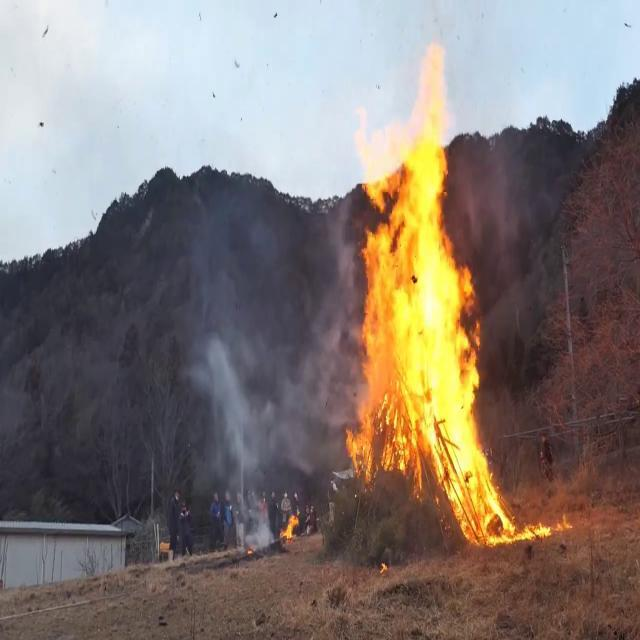Fire: (343, 26, 543, 553), (522, 510, 580, 540), (279, 502, 303, 548)
Smoke: (174, 188, 338, 546)
